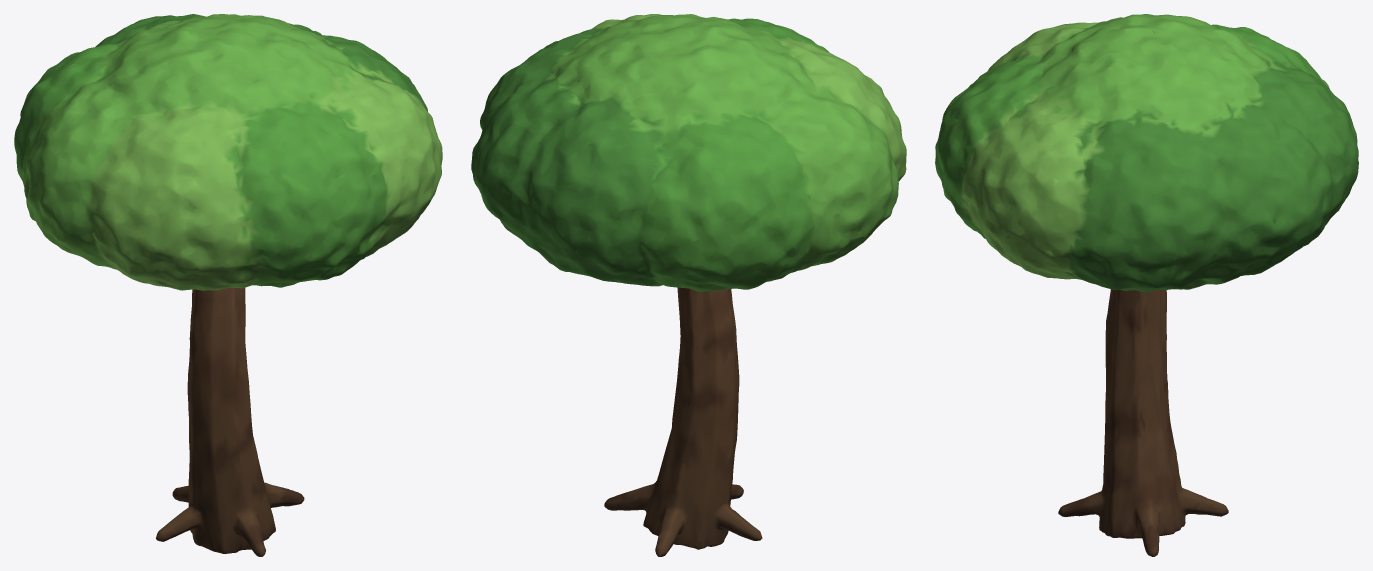
Rendered from broadleaf_mature_dense.glb.
3 renders of one model, left to right at view 1: azimuth 30°, elevation 25°; view 2: azimuth 150°, elevation 25°; view 3: azimuth 270°, elevation 25°, orthographic.
Visible parts, largest first — view 1: broadleaf_mature_dense_LOD0; view 2: broadleaf_mature_dense_LOD0; view 3: broadleaf_mature_dense_LOD0.
Boxes of the visible parts, x1=… form: broadleaf_mature_dense_LOD0: x1=14, y1=14, x2=442, y2=556; broadleaf_mature_dense_LOD0: x1=471, y1=14, x2=906, y2=556; broadleaf_mature_dense_LOD0: x1=935, y1=14, x2=1358, y2=556.
Size of what is drawn, in the model's own units: 3.92 by 4.91 by 3.79.
